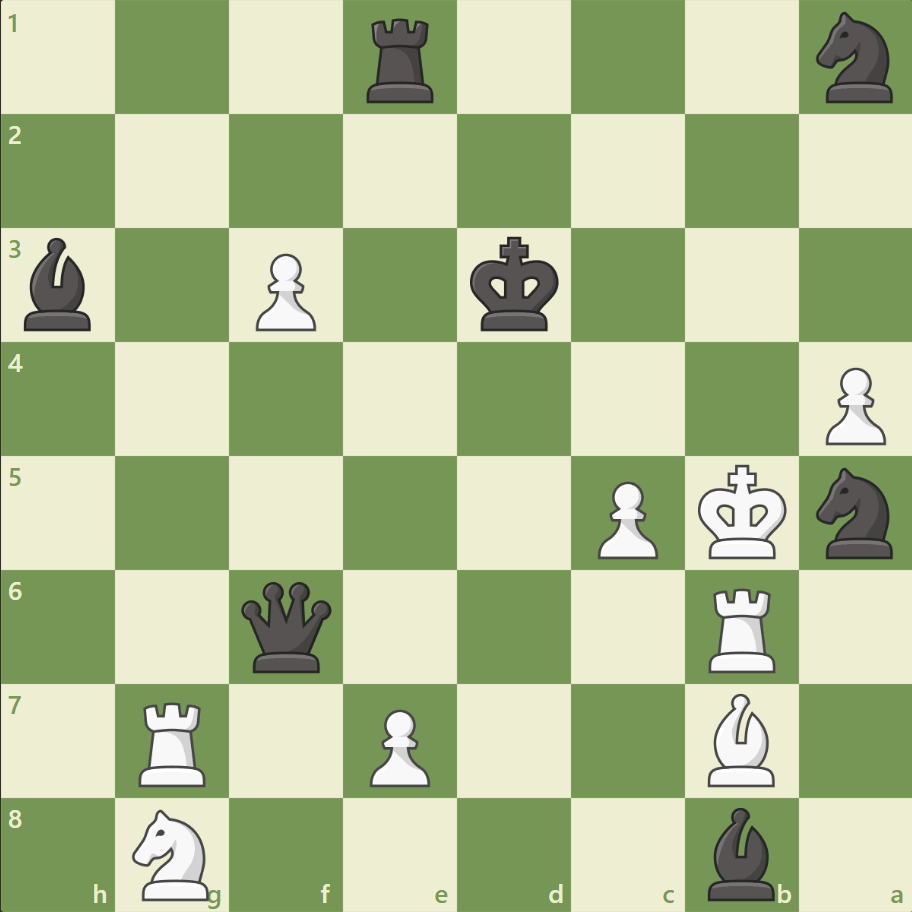B: (698, 687, 782, 790)
K: (692, 458, 792, 566)
N: (124, 802, 222, 904)
P: (247, 246, 322, 337), (361, 700, 435, 791), (588, 473, 662, 564), (815, 359, 889, 450)
R: (700, 579, 783, 676), (133, 693, 215, 790)
b: (698, 801, 782, 904), (17, 233, 101, 336)
k: (465, 231, 565, 339)
n: (806, 461, 903, 564), (806, 7, 903, 110)
q: (237, 576, 336, 676)
r: (360, 12, 442, 109)
